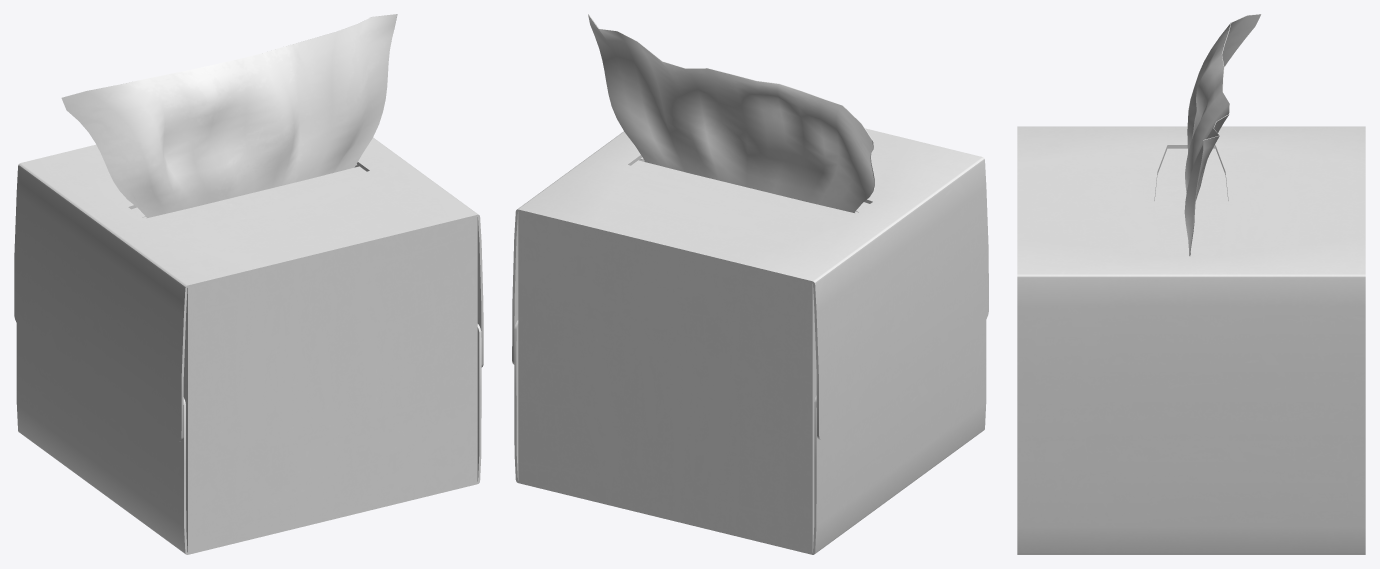
File: TissueBox.obj
3 renders of one model, left to right at view 1: azimuth 30°, elevation 25°; view 2: azimuth 150°, elevation 25°; view 3: azimuth 270°, elevation 25°, orthographic. The views are drawn at different scales.
Visible parts, largest first — view 1: TissueBox; view 2: TissueBox; view 3: TissueBox.
Part boxes in pixels (box(x1,y1,x2,y2)): TissueBox: box(14, 14, 483, 554); TissueBox: box(512, 14, 988, 554); TissueBox: box(1017, 14, 1365, 554).
Size of the model in its own units: 7.54 by 9.41 by 7.09.
